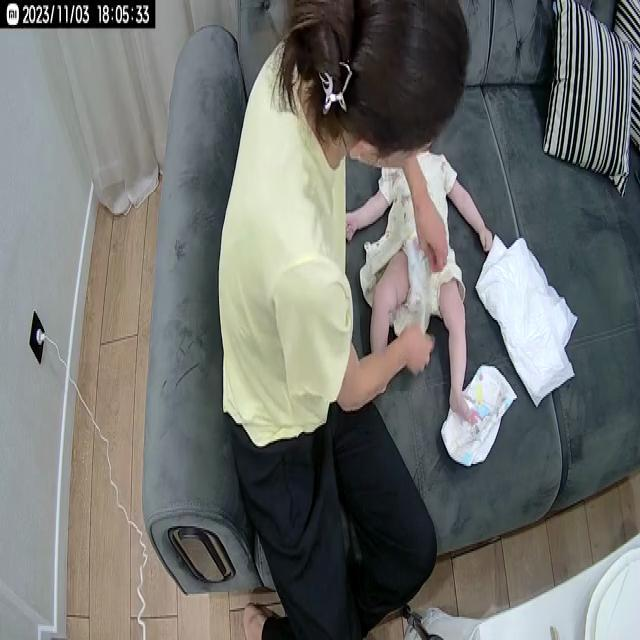baby: (344, 139, 494, 426)
